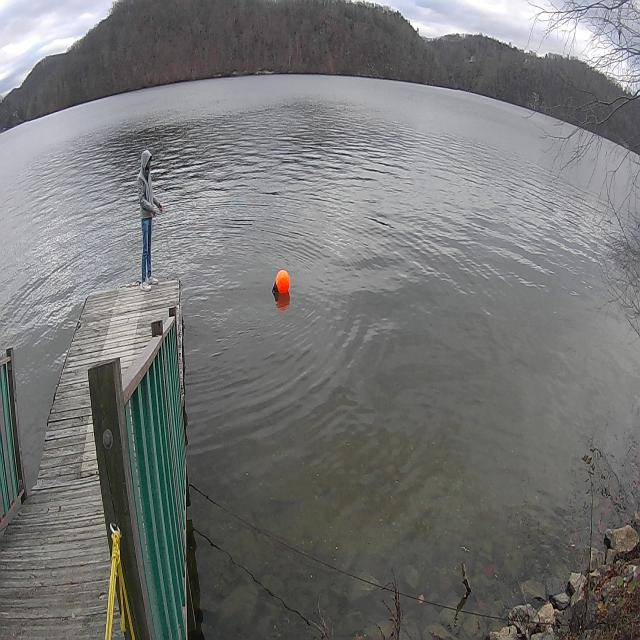Buoy: (270, 268, 294, 303)
